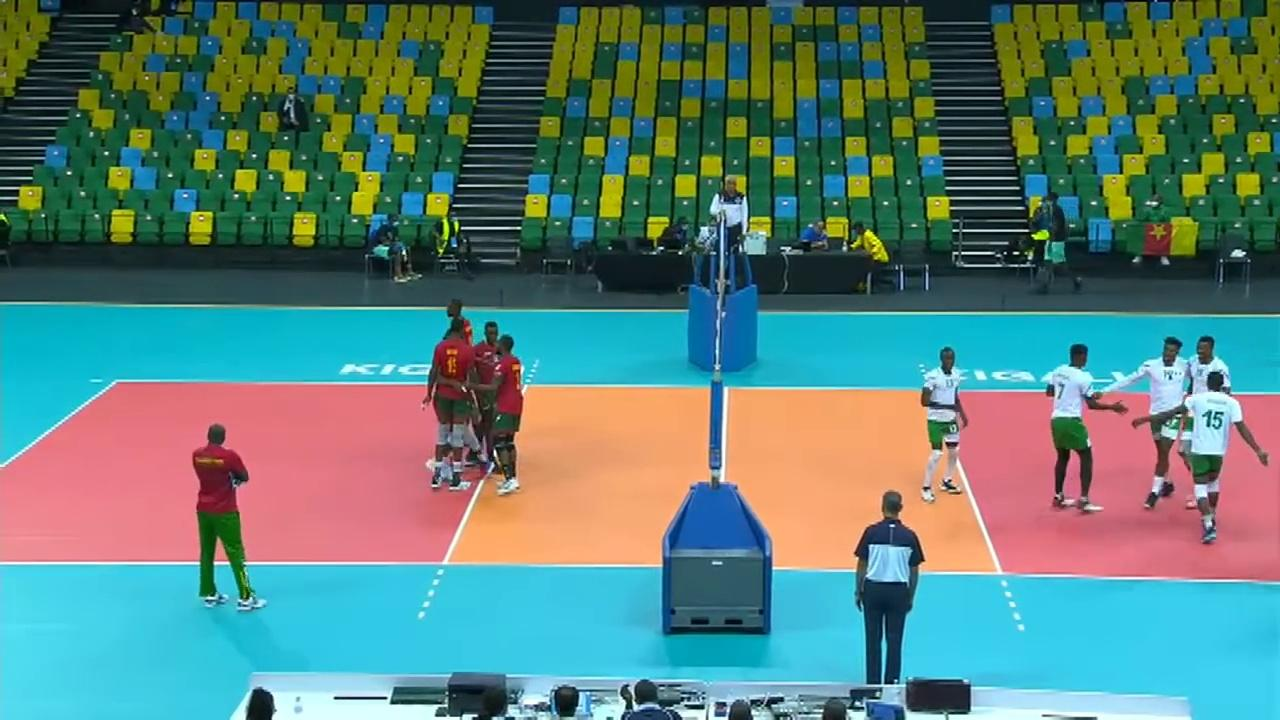player: (1176, 368, 1266, 543), (1108, 338, 1193, 513), (1047, 344, 1107, 511), (428, 322, 484, 500), (917, 350, 970, 497), (494, 333, 538, 506), (436, 299, 475, 467), (1184, 327, 1239, 436), (476, 318, 507, 461)
refree: (851, 489, 928, 688), (712, 177, 750, 272)
